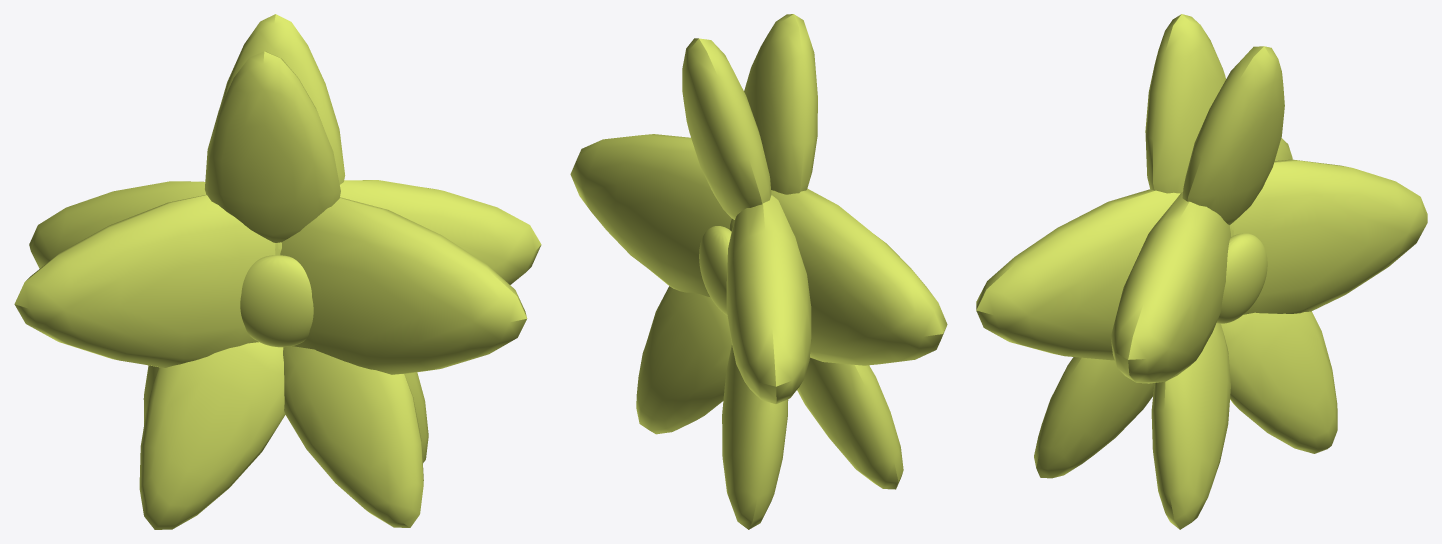
Rendered from star.009.gltf.
3 views of the same model, side by side, from view 1: azimuth 30°, elevation 25°; view 2: azimuth 150°, elevation 25°; view 3: azimuth 270°, elevation 25° (orthographic). The views are drawn at different scales.
Parts seen in each view (by area): view 1: star.009; view 2: star.009; view 3: star.009.
Boxes of the visible parts, <box> form: star.009: <box>14,14,541,529</box>; star.009: <box>570,14,947,529</box>; star.009: <box>976,14,1427,529</box>.
Size of the model in its own units: 1.1 by 1.08 by 0.9832.
